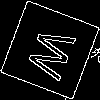W: (25, 25, 85, 85)
